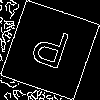P: (25, 25, 73, 79)
